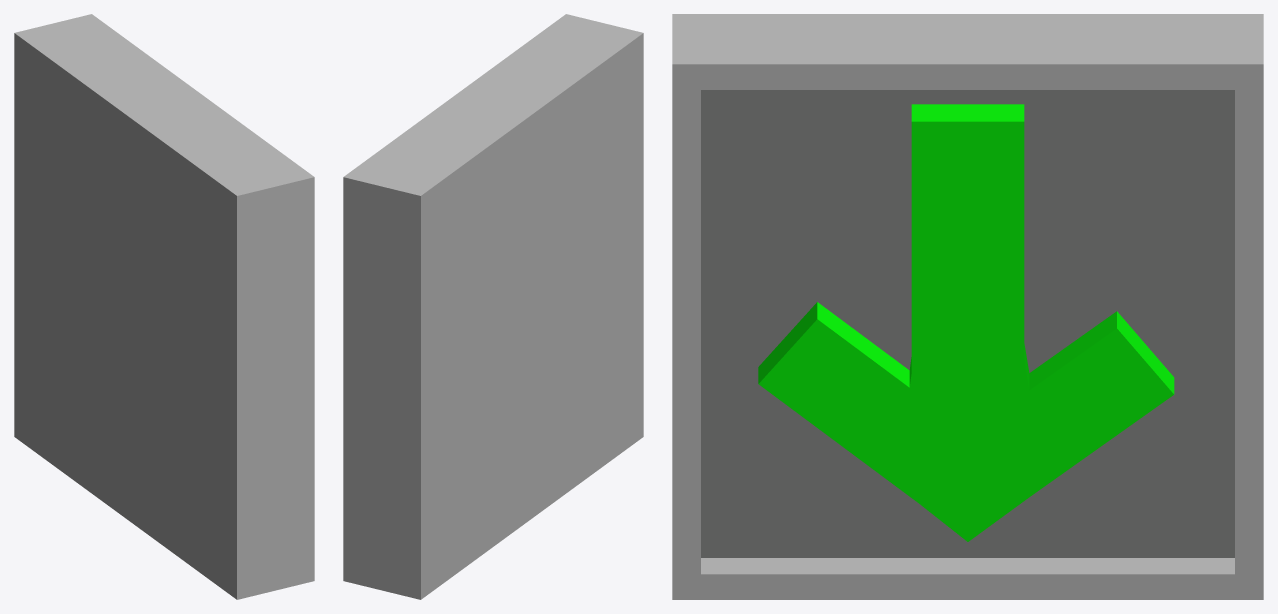
File: Arrow.fbx
3 renders of one model, left to right at view 1: azimuth 30°, elevation 25°; view 2: azimuth 150°, elevation 25°; view 3: azimuth 270°, elevation 25°, orthographic. The views are drawn at different scales.
Parts seen in each view (by area): view 1: polySurface4; view 2: polySurface4; view 3: polySurface4.
Part boxes in pixels (left/top/right/bottom): polySurface4: left=14, top=14, right=314, bottom=599; polySurface4: left=343, top=14, right=643, bottom=599; polySurface4: left=672, top=14, right=1263, bottom=599.
Size of the model in its own units: 0.2175 by 1.06 by 1.06.
